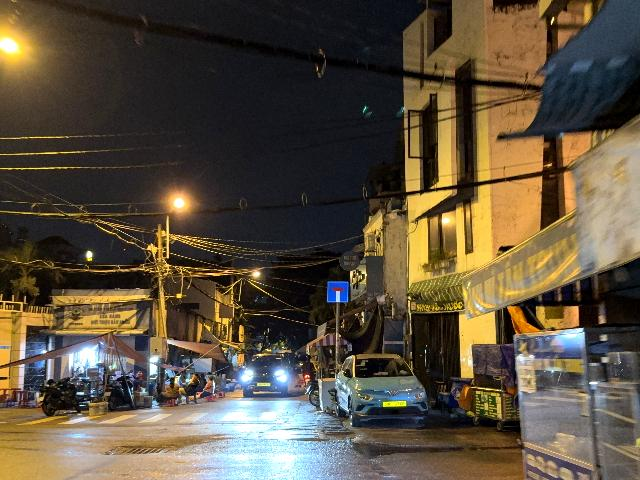duong-cut: (327, 282, 349, 302)
